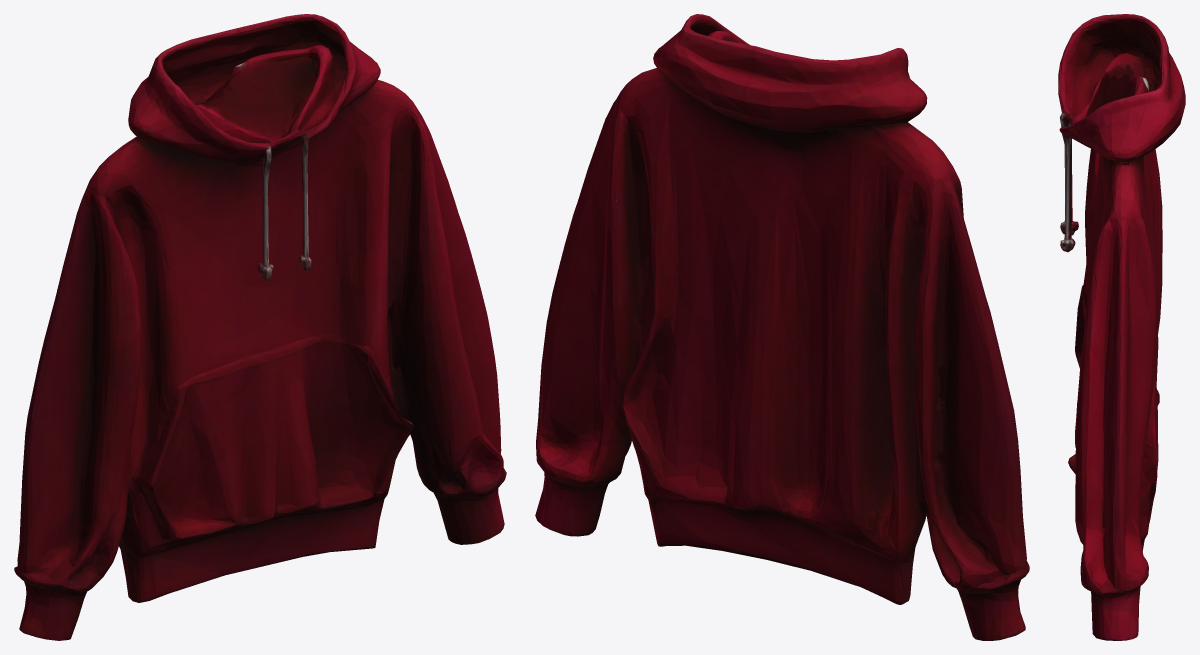
3 views of the same model, side by side, from view 1: azimuth 30°, elevation 25°; view 2: azimuth 150°, elevation 25°; view 3: azimuth 270°, elevation 25° (orthographic). The views are drawn at different scales.
Parts seen in each view (by area): view 1: geometry_0; view 2: geometry_0; view 3: geometry_0.
Part boxes in pixels (box(x1,y1,x2,y2)): geometry_0: box(14, 14, 506, 640); geometry_0: box(535, 14, 1029, 640); geometry_0: box(1058, 14, 1185, 640).
Bounding box in the file's own units: 0.9195 × 0.997 × 0.2345.
Materials: 1 (1 with a texture image).
